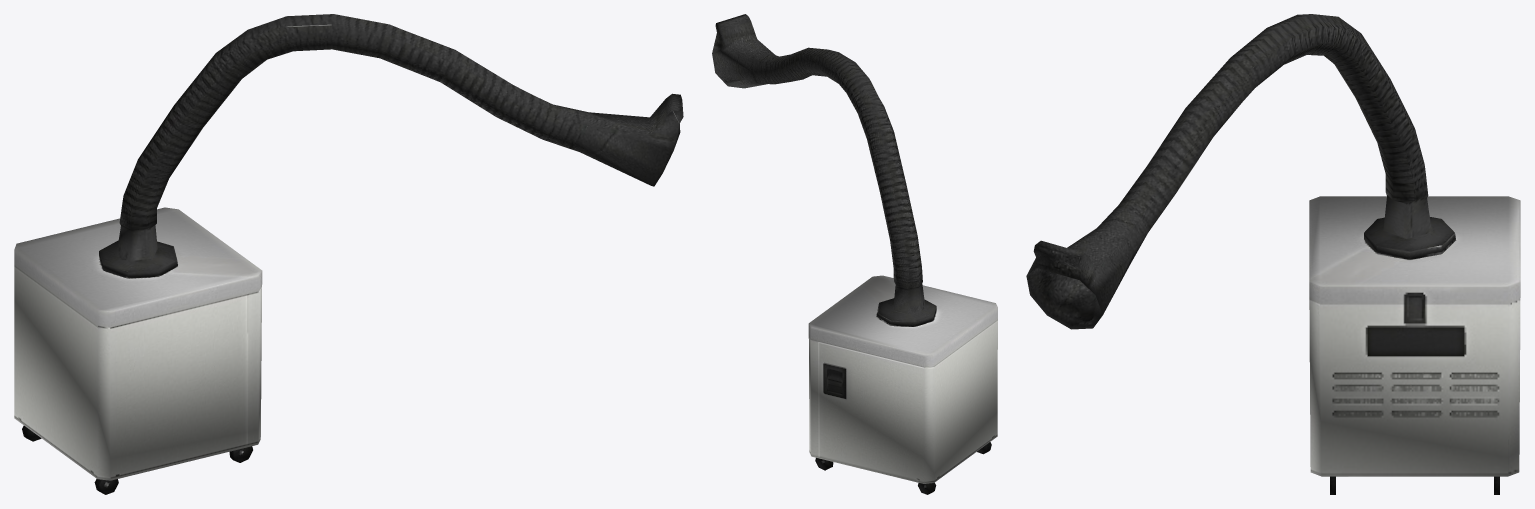
The picture shows the model from 3 angles, left to right: view 1: azimuth 30°, elevation 25°; view 2: azimuth 150°, elevation 25°; view 3: azimuth 270°, elevation 25°; orthographic projection. The views are drawn at different scales.
Visible parts, largest first — view 1: tripo_node_f8fe584c.001; view 2: tripo_node_f8fe584c.001; view 3: tripo_node_f8fe584c.001.
Boxes of the visible parts, x1=… form: tripo_node_f8fe584c.001: x1=14, y1=14, x2=683, y2=494; tripo_node_f8fe584c.001: x1=712, y1=14, x2=997, y2=494; tripo_node_f8fe584c.001: x1=1026, y1=14, x2=1520, y2=494.
Size of the model in its own units: 99.8 by 89.65 by 79.49.
1 material, 1 textured.
